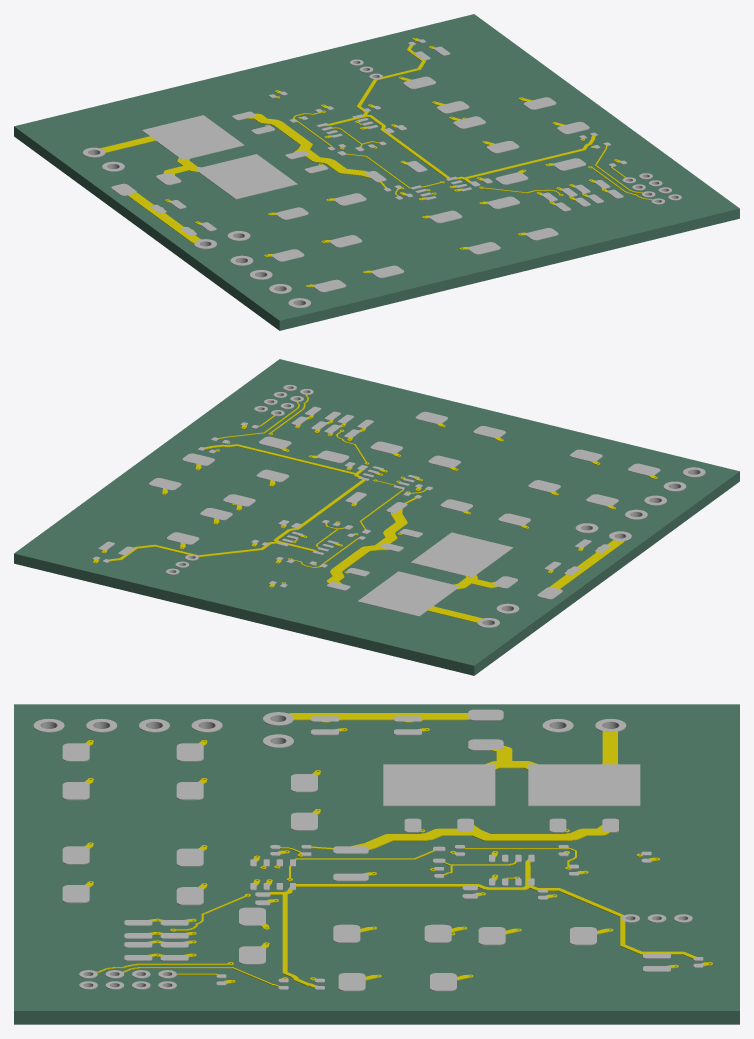
File: PB1R_with_components.glb
The picture shows the model from 3 angles, top to bottom: view 1: azimuth 30°, elevation 25°; view 2: azimuth 150°, elevation 25°; view 3: azimuth 270°, elevation 25°; orthographic projection. The views are drawn at different scales.
Parts seen in each view (by area): view 1: =>[0:1:1:5], =>[0:1:1:3], =>[0:1:1:2]; view 2: =>[0:1:1:5], =>[0:1:1:3], =>[0:1:1:2]; view 3: =>[0:1:1:5], =>[0:1:1:3], =>[0:1:1:2].
Part boxes in pixels (left/top/right/bottom): =>[0:1:1:5]: left=14, top=14, right=739, bottom=330; =>[0:1:1:3]: left=82, top=39, right=681, bottom=308; =>[0:1:1:2]: left=101, top=38, right=652, bottom=287; =>[0:1:1:5]: left=14, top=359, right=739, bottom=675; =>[0:1:1:3]: left=92, top=384, right=705, bottom=627; =>[0:1:1:2]: left=93, top=394, right=657, bottom=622; =>[0:1:1:5]: left=14, top=704, right=739, bottom=1024; =>[0:1:1:3]: left=33, top=709, right=703, bottom=991; =>[0:1:1:2]: left=85, top=713, right=712, bottom=987.
Bounding box in the file's own units: 0.07 × 0.00162 × 0.07.
